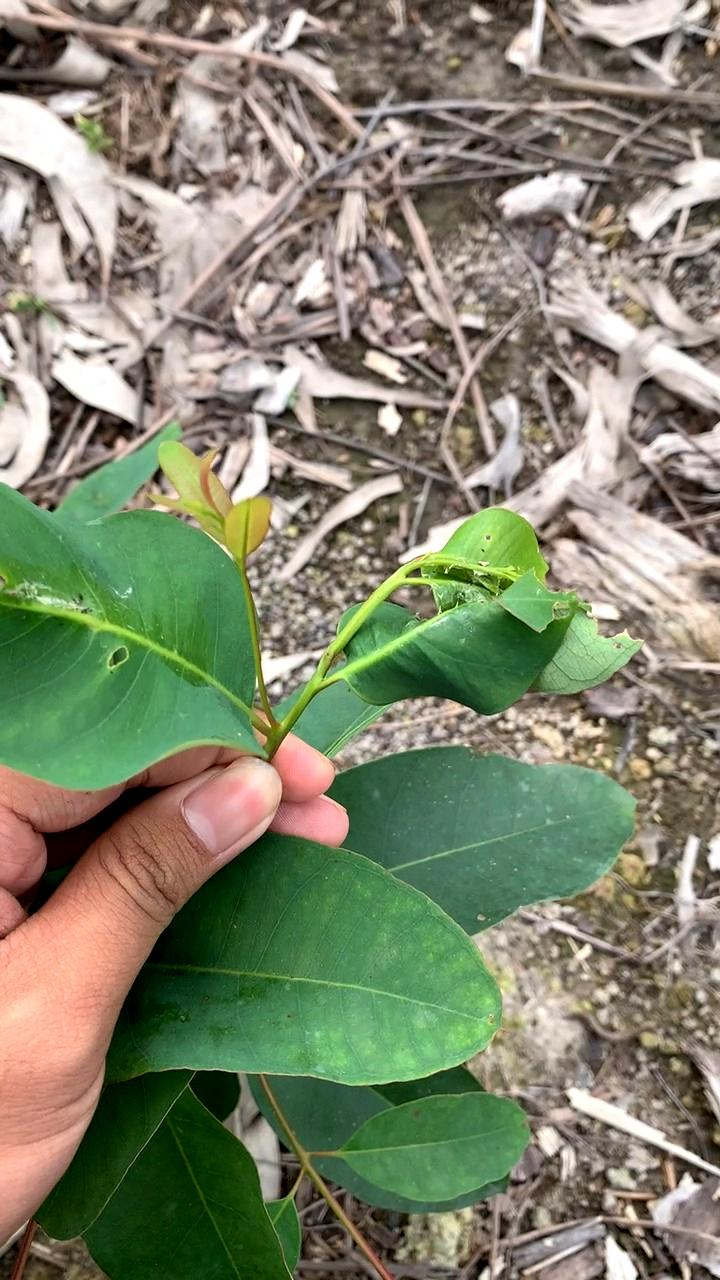Leaf Roller - Leaf: (343, 491, 645, 729)
